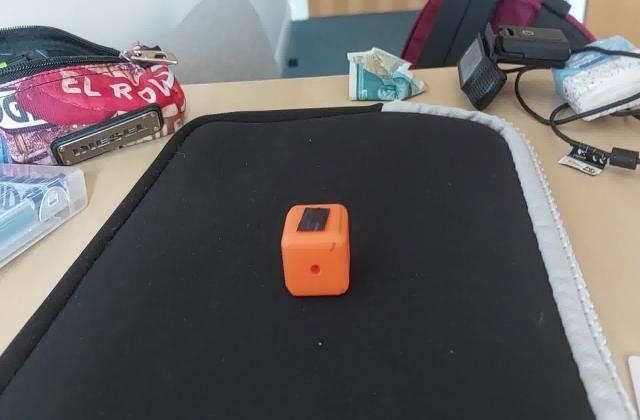black: (295, 205, 332, 236)
cube: (279, 201, 353, 302)
